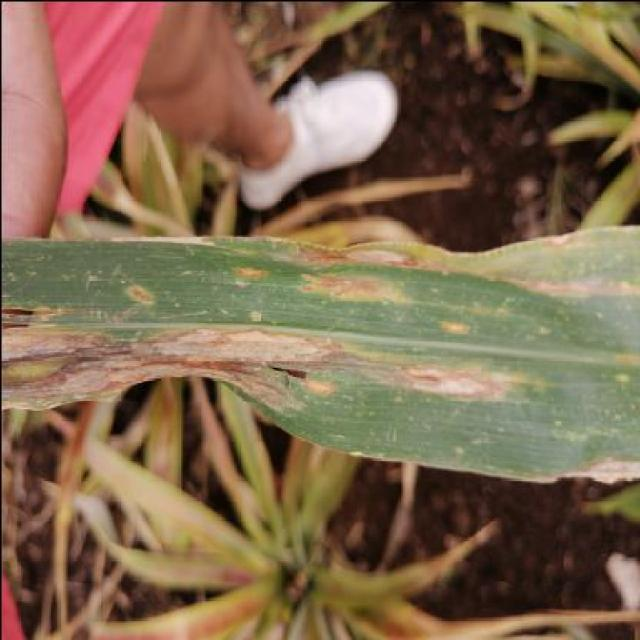Corn_Leaf_Blight: (0, 235, 640, 492)
